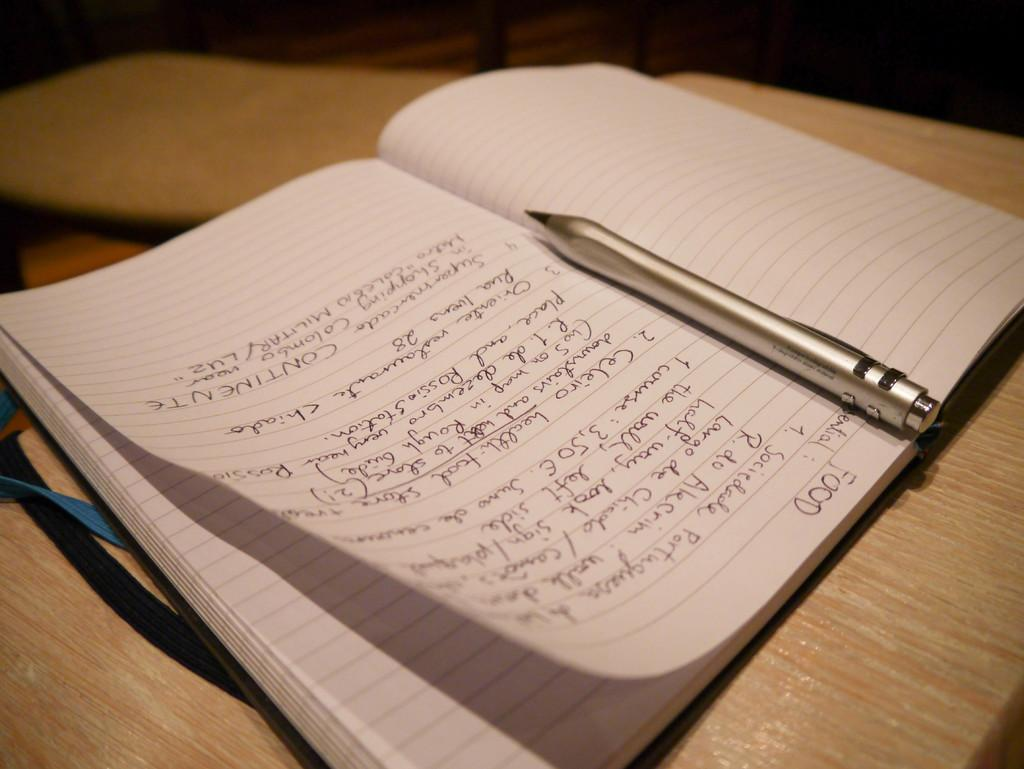pen: (522, 206, 940, 436)
